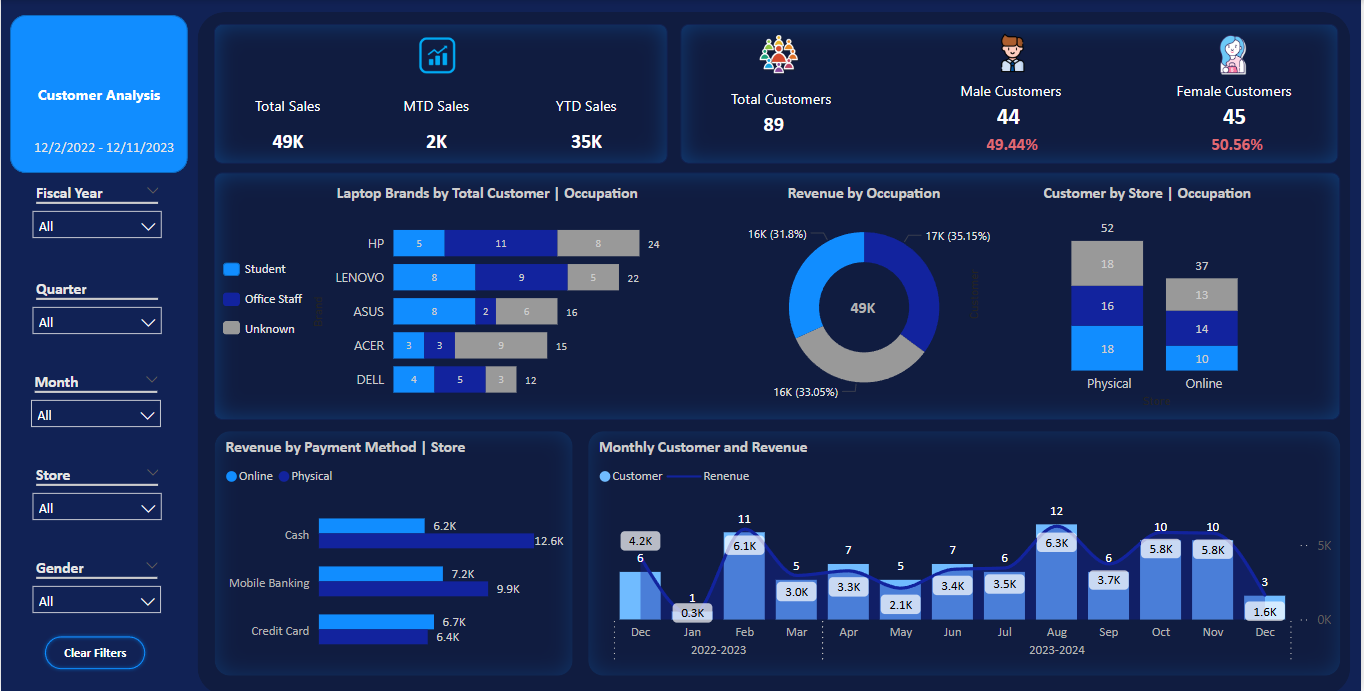

Layout of this report page (visuals, bound fields, positions):
{"tool":"powerbi","page":{"name":"Smart Survey Form Report ","canvas":[1280,650],"ordinal":0},"visuals":[{"type":"shape","box":[184.5,10.6,1084.4,642.4],"z":0},{"type":"group","id":"g1","title":"Group 6","box":[208.3,237.5,90.8,31.9],"z":0,"group":"g10"},{"type":"shape","box":[208.3,247.1,15.9,12.7],"z":0,"group":"g1"},{"type":"shape","box":[208.3,275.3,15.9,12.7],"z":0,"group":"g2"},{"type":"shape","box":[208.3,302.8,15.9,12.7],"z":0,"group":"g3"},{"type":"shape","box":[200.1,162.8,1059.3,232.6],"z":1000},{"type":"textbox","box":[224.2,237.5,74.9,31.9],"z":1000,"group":"g1"},{"type":"group","id":"g2","title":"Group 7","box":[208.3,265.7,90.8,31.7],"z":1000,"group":"g10"},{"type":"textbox","box":[224.2,265.7,74.9,31.7],"z":1000,"group":"g2"},{"type":"textbox","box":[224.2,293.8,74.9,31.7],"z":1000,"group":"g3"},{"type":"shape","box":[639.8,22.6,618.5,131.4],"z":2000},{"type":"group","id":"g3","title":"Group 8","box":[208.3,293.8,90.8,31.7],"z":2000,"group":"g10"},{"type":"shape","box":[200.6,23.1,426.5,131.4],"z":3000},{"type":"lineClusteredColumnComboChart","title":"Monthly Customer and Revenue","fields":{"Category":["Calendar.fiscal_Year","Calendar.Month"],"Y":["CountNonNull(laptop.Brand)"],"Y2":["Sum(laptop.Price)"]},"box":[551,404.8,708.8,231.1],"z":4000},{"type":"columnChart","title":"Customer by Store | Occupation","fields":{"Category":["laptop.Store"],"Y":["CountNonNull(laptop.Store)"],"Series":["laptop.Occupation"]},"box":[905,172.1,347.4,215.1],"z":5000},{"type":"slicer","fields":{"Values":["Calendar.fiscal_Year"]},"box":[19.1,166.2,141.2,76.2],"z":6000},{"type":"card","title":"MTD","fields":{"Values":["Measure.MTD Total Sales"]},"box":[366.2,114.9,87.6,35.8],"z":7000,"group":"g5"},{"type":"slicer","fields":{"Values":["Calendar.fiscal_Quarter"]},"box":[19.1,256.5,141.2,73.8],"z":7000},{"type":"slicer","fields":{"Values":["Calendar.Month"]},"box":[18.8,344.3,141.8,73.8],"z":8000},{"type":"card","title":"YTD","fields":{"Values":["Sum(laptop.Price)"]},"box":[225.4,114.8,87.6,35.8],"z":9000,"group":"g6"},{"type":"card","title":"YTD","fields":{"Values":["Measure.YTD Actual"]},"box":[506.7,114.9,87.6,35.8],"z":9000,"group":"g4"},{"type":"card","title":"YTD","fields":{"Values":["Sum(laptop.Price)"]},"box":[772.5,276.1,77,26.5],"z":9000},{"type":"barChart","title":"Laptop Brands by Total Customer | Occupation","fields":{"Category":["laptop.Brand"],"Y":["CountNonNull(laptop.Brand)"],"Series":["laptop.Occupation"]},"box":[288.2,171.8,338.9,215.6],"z":10000},{"type":"clusteredBarChart","title":"Revenue by Payment Method | Store","fields":{"Category":["laptop.Payment Method"],"Series":["laptop.Store"],"Y":["Sum(laptop.Price)"]},"box":[200.5,404.8,338.1,231.1],"z":11000},{"type":"actionButton","box":[38.8,595.5,100.8,37.2],"z":12000},{"type":"slicer","fields":{"Values":["laptop.Store"]},"box":[19.1,432.1,141.2,73.8],"z":13000},{"type":"shape","box":[8,14.6,167.2,148.7],"z":14000},{"type":"card","title":"Total Customers","fields":{"Values":["CountNonNull(laptop.Brand)"]},"box":[681.6,98.7,90,37.2],"z":14000,"group":"g7"},{"type":"card","fields":{"Values":["Measure.Date Range"]},"box":[10,113.4,173.5,53.4],"z":15000},{"type":"image","box":[1133.8,22.5,51.2,57.5],"z":16000},{"type":"card","title":"Male Customers","fields":{"Values":["CountNonNull(laptop.Brand)"]},"box":[903.4,91.3,88.4,35.7],"z":16000,"group":"g8"},{"type":"image","box":[927.8,21.2,46.5,57.1],"z":17000},{"type":"card","title":"Female Customers","fields":{"Values":["CountNonNull(laptop.Brand)"]},"box":[1116.1,91,87.5,35],"z":17000,"group":"g9"},{"type":"image","box":[707.5,26.2,50,48.8],"z":18000},{"type":"group","id":"g4","title":"Group 1","box":[485.5,84.3,130.1,66.4],"z":19000},{"type":"group","id":"g5","title":"Group 2","box":[345,84.3,130.1,66.4],"z":20000},{"type":"group","id":"g6","title":"Group 1","box":[204.2,84.2,130.3,66.7],"z":21000},{"type":"group","id":"g7","title":"Group 3","box":[668.5,77,130,58.9],"z":22000},{"type":"textbox","box":[668.5,77,130,28.8],"z":22000,"group":"g7"},{"type":"group","id":"g8","title":"Group 4","box":[885.3,70.8,130.3,56.2],"z":23000},{"type":"textbox","box":[885.3,70.8,130.3,29.5],"z":23000,"group":"g8"},{"type":"textbox","box":[345,84.3,130.1,27.9],"z":23004,"group":"g5"},{"type":"textbox","box":[204.2,84.2,130.1,27.9],"z":23005,"group":"g6"},{"type":"textbox","box":[485.5,84.3,130.1,27.9],"z":23005,"group":"g4"},{"type":"group","id":"g9","title":"Group 5","box":[1094.9,70,130,56],"z":24000},{"type":"textbox","box":[1094.9,70,130,28.8],"z":24000,"group":"g9"},{"type":"group","id":"g10","title":"Group 9","box":[208.3,237.5,90.8,88],"z":25000},{"type":"image","box":[383.6,26.5,53.1,50.4],"z":26000},{"type":"slicer","fields":{"Values":["laptop.Gender"]},"box":[19.4,519.9,140.6,73.8],"z":27000},{"type":"donutChart","fields":{"Category":["laptop.Occupation"],"Y":["Sum(laptop.Price)"]},"box":[648.5,172.1,325,215.1],"z":28000},{"type":"card","fields":{"Values":["Measure.Male Percentage"]},"box":[908.8,108.6,83.7,55.8],"z":28001},{"type":"card","fields":{"Values":["Measure.Female Percentage"]},"box":[1119.7,108,83.7,55.8],"z":28002}]}

Visuals, with their boxes in screenshot pixels (x1, y1, x2, y2), scaled from the page's 1280x650 canvas onto the 1364x691 screenshot:
shape: l=197, t=11, r=1352, b=690
"Group 6" group: l=222, t=252, r=319, b=286
shape: l=222, t=263, r=239, b=276
shape: l=222, t=293, r=239, b=306
shape: l=222, t=322, r=239, b=335
shape: l=213, t=173, r=1342, b=420
textbox: l=239, t=252, r=319, b=286
"Group 7" group: l=222, t=282, r=319, b=316
textbox: l=239, t=282, r=319, b=316
textbox: l=239, t=312, r=319, b=346
shape: l=682, t=24, r=1341, b=164
"Group 8" group: l=222, t=312, r=319, b=346
shape: l=214, t=25, r=668, b=164
"Monthly Customer and Revenue" lineClusteredColumnComboChart: l=587, t=430, r=1342, b=676
"Customer by Store | Occupation" columnChart: l=964, t=183, r=1335, b=412
slicer - Calendar.fiscal_Year: l=20, t=177, r=171, b=258
"MTD" card: l=390, t=122, r=484, b=160
slicer - Calendar.fiscal_Quarter: l=20, t=273, r=171, b=351
slicer - Calendar.Month: l=20, t=366, r=171, b=444
"YTD" card: l=240, t=122, r=334, b=160
"YTD" card: l=540, t=122, r=633, b=160
"YTD" card: l=823, t=294, r=905, b=322
"Laptop Brands by Total Customer | Occupation" barChart: l=307, t=183, r=668, b=412
"Revenue by Payment Method | Store" clusteredBarChart: l=214, t=430, r=574, b=676
actionButton: l=41, t=633, r=149, b=673
slicer - laptop.Store: l=20, t=459, r=171, b=538
shape: l=9, t=16, r=187, b=174
"Total Customers" card: l=726, t=105, r=822, b=144
card - Measure.Date Range: l=11, t=121, r=196, b=177
image: l=1208, t=24, r=1263, b=85
"Male Customers" card: l=963, t=97, r=1057, b=135
image: l=989, t=23, r=1038, b=83
"Female Customers" card: l=1189, t=97, r=1283, b=134
image: l=754, t=28, r=807, b=80
"Group 1" group: l=517, t=90, r=656, b=160
"Group 2" group: l=368, t=90, r=506, b=160
"Group 1" group: l=218, t=90, r=356, b=160
"Group 3" group: l=712, t=82, r=851, b=144
textbox: l=712, t=82, r=851, b=112
"Group 4" group: l=943, t=75, r=1082, b=135
textbox: l=943, t=75, r=1082, b=107
textbox: l=368, t=90, r=506, b=119
textbox: l=218, t=90, r=356, b=119
textbox: l=517, t=90, r=656, b=119
"Group 5" group: l=1167, t=74, r=1305, b=134
textbox: l=1167, t=74, r=1305, b=105
"Group 9" group: l=222, t=252, r=319, b=346
image: l=409, t=28, r=465, b=82
slicer - laptop.Gender: l=21, t=553, r=170, b=631
donutChart - laptop.Occupation x Sum(laptop.Price): l=691, t=183, r=1037, b=412
card - Measure.Male Percentage: l=968, t=115, r=1058, b=175
card - Measure.Female Percentage: l=1193, t=115, r=1282, b=174
